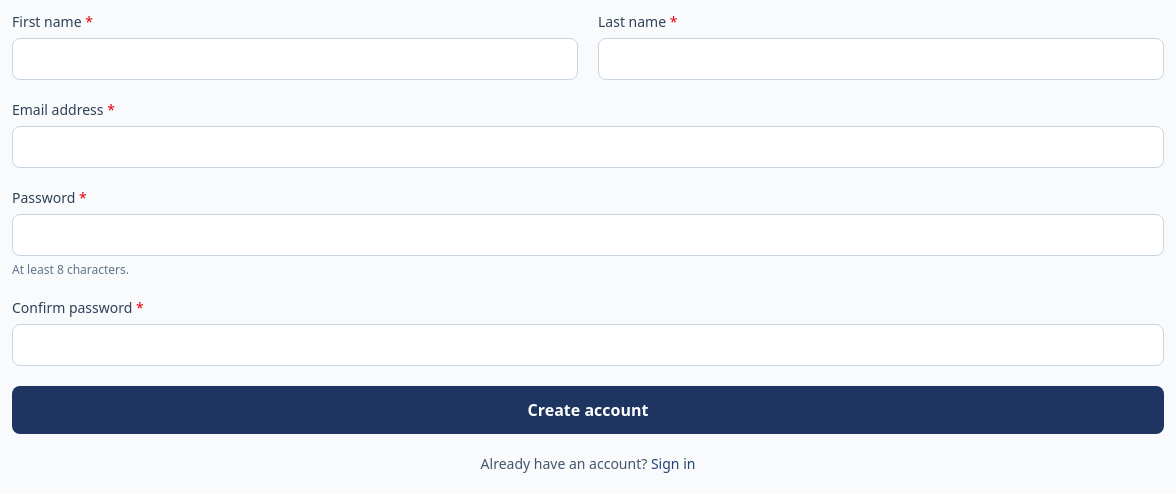
Scenario: SignupForm › rejects a short password
The width and height of the screenshot is (1176, 494).
Type "Ada" into the field labelled "First name *". click: (295, 59)
box: 12,38 -> 578,80
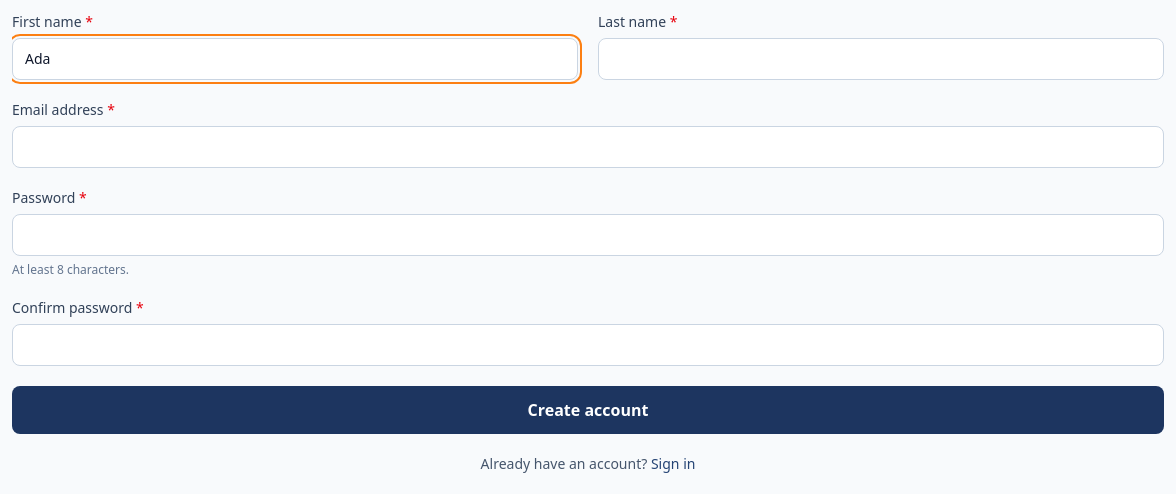
Type "Alpha" into the field labelled "Last name *". click: (881, 59)
box: 598,38 -> 1164,80
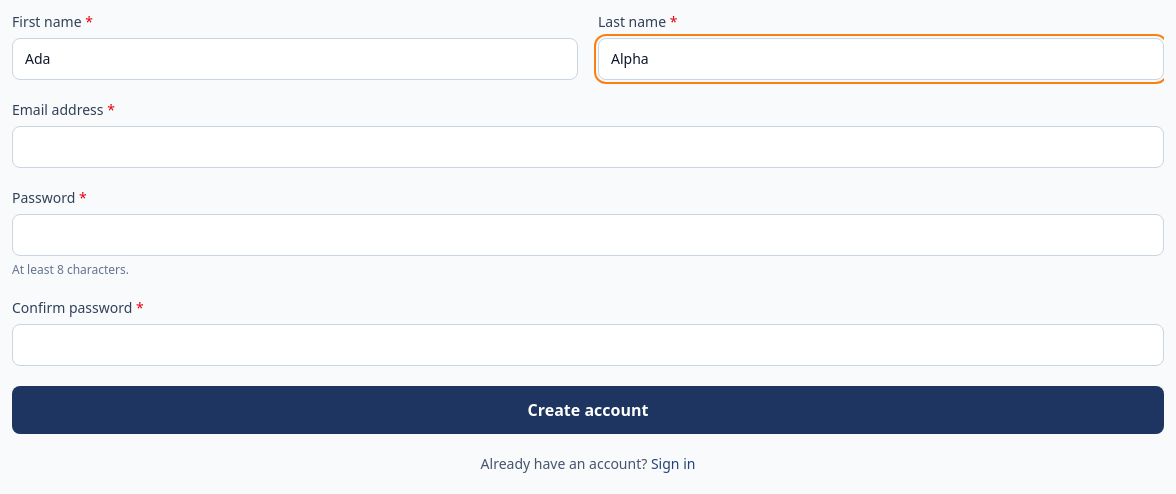
Type "ada@example.com" into the field labelled "Email address *". click: (588, 147)
box: 12,126 -> 1164,168
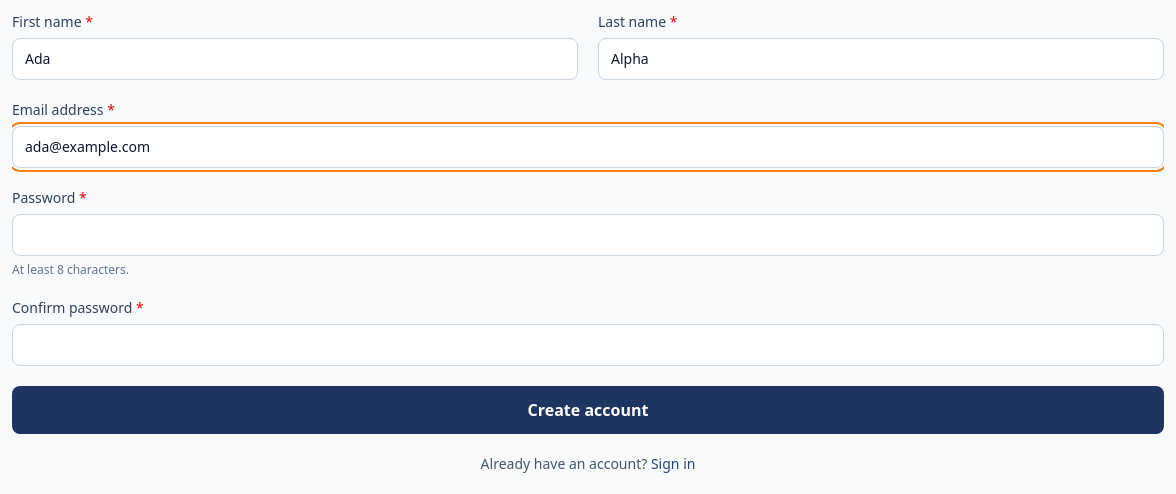
Type "short" into the password field labelled "Password *". click: (588, 235)
box: 12,214 -> 1164,256
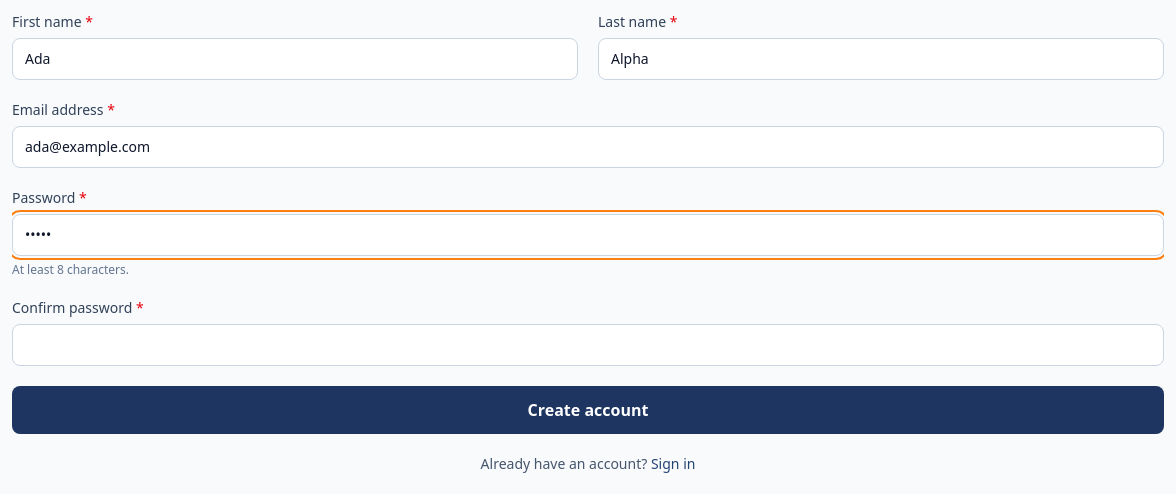
Type "short" into the password field labelled "Confirm password *". click: (588, 345)
box: 12,324 -> 1164,366
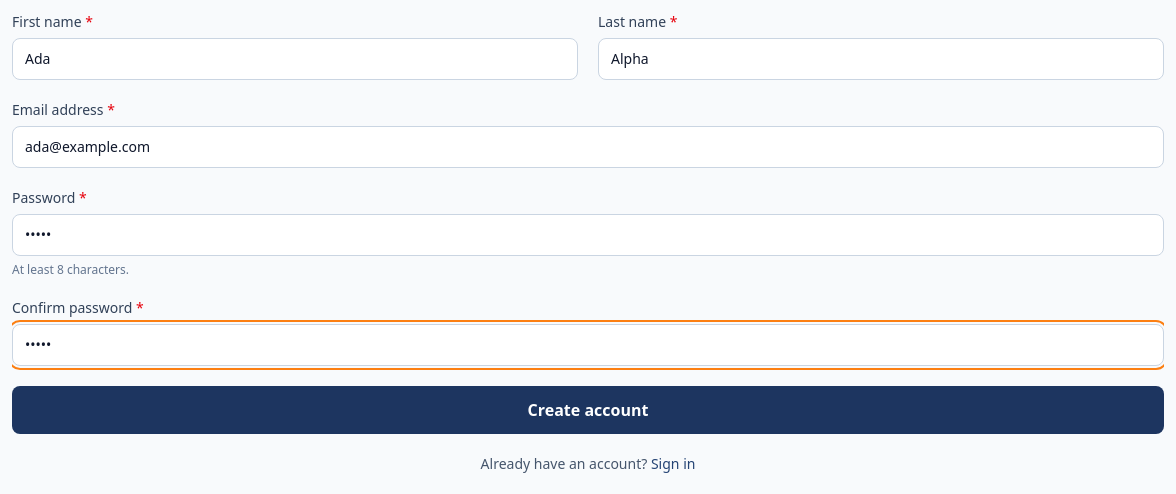
Click the button "Create account". click: (588, 410)
box: 12,386 -> 1164,434
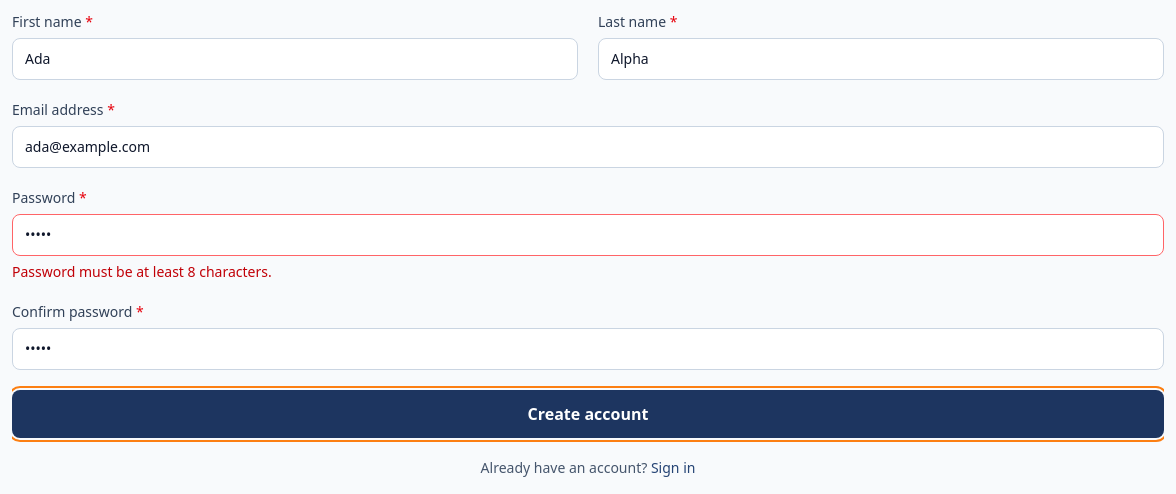
Expected: the text "Password must be at least 8 characters." is shown, 12,262 -> 272,281
